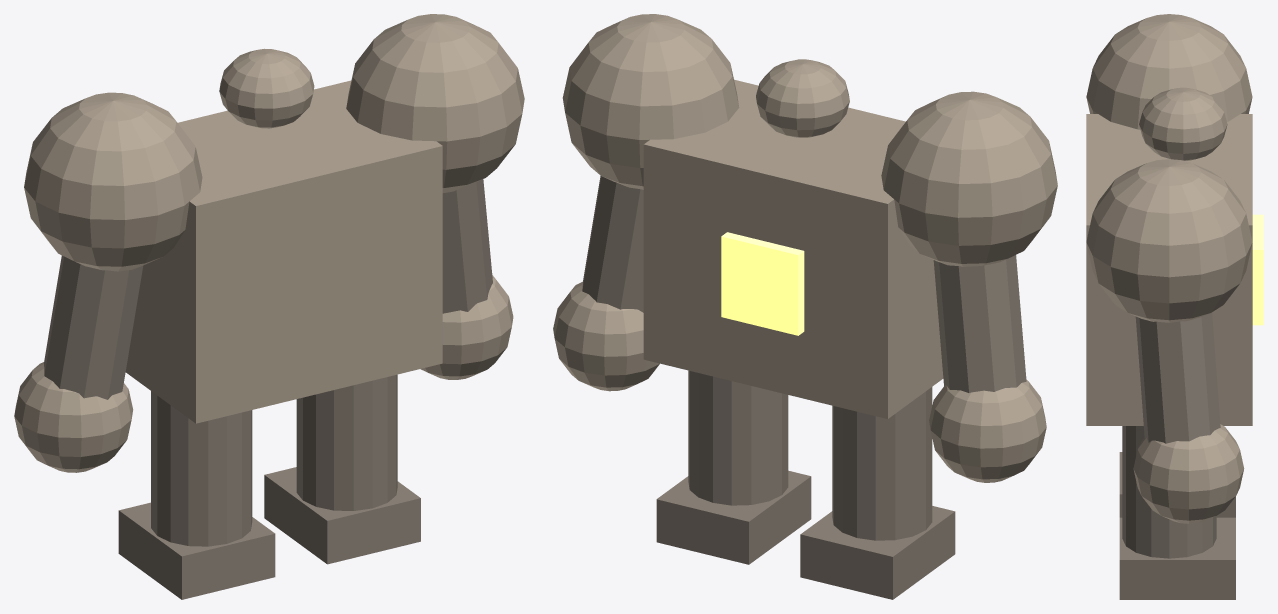
Rendered from bulwark.glb.
3 views of the same model, side by side, from view 1: azimuth 30°, elevation 25°; view 2: azimuth 150°, elevation 25°; view 3: azimuth 270°, elevation 25° (orthographic). The views are drawn at different scales.
Visible parts, largest first — view 1: bulwark; view 2: bulwark; view 3: bulwark.
Boxes of the visible parts, bbox=[...] form: bulwark: bbox=[14, 14, 524, 599]; bulwark: bbox=[553, 14, 1057, 599]; bulwark: bbox=[1086, 14, 1263, 599].
Size of the model in its own units: 1.86 by 1.81 by 0.64.
